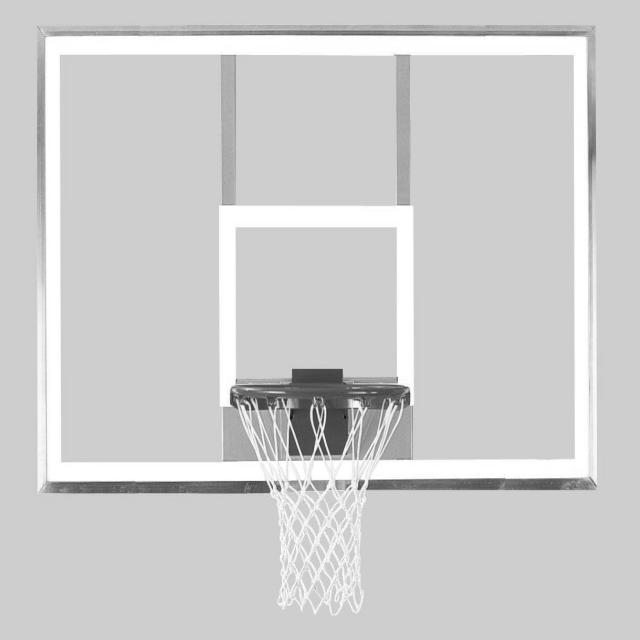backboard: (35, 27, 596, 487)
